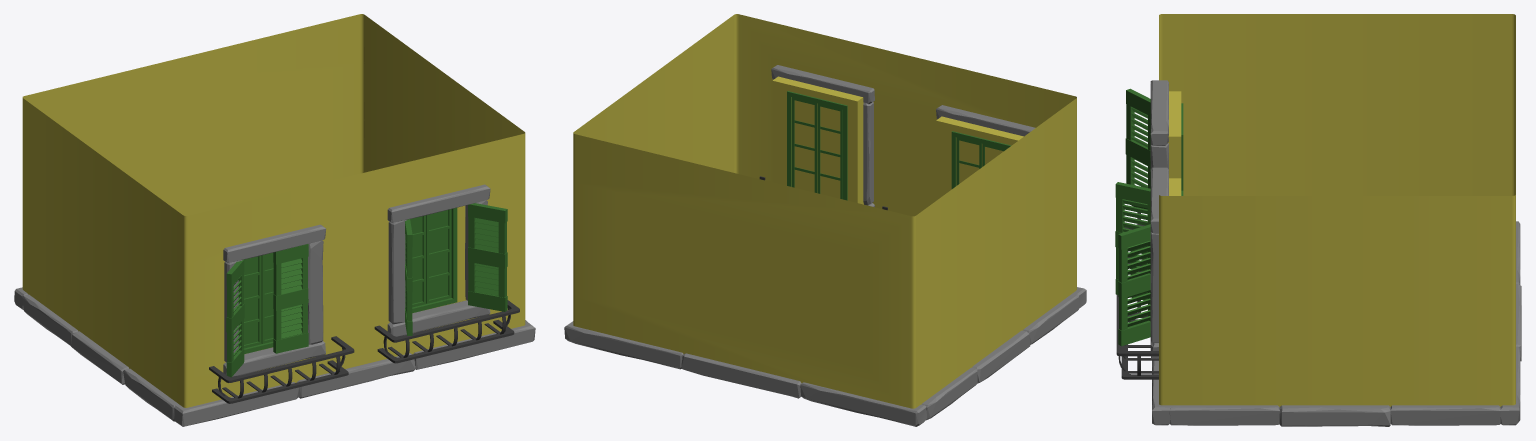
File: SM_building_modular_1x1_02.fbx
3 views of the same model, side by side, from view 1: azimuth 30°, elevation 25°; view 2: azimuth 150°, elevation 25°; view 3: azimuth 270°, elevation 25° (orthographic). The views are drawn at different scales.
Parts seen in each view (by area): view 1: Object32360; view 2: Object32360; view 3: Object32360.
Part boxes in pixels (x1,y1,x2,y2): Object32360: (14,14,535,426); Object32360: (564,14,1086,426); Object32360: (1115,14,1521,426).
Size of the model in its own units: 214 by 119 by 193.
